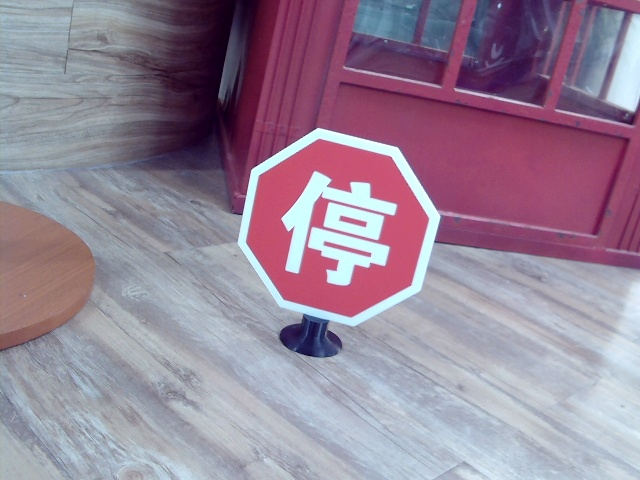stop: (283, 173, 391, 288)
